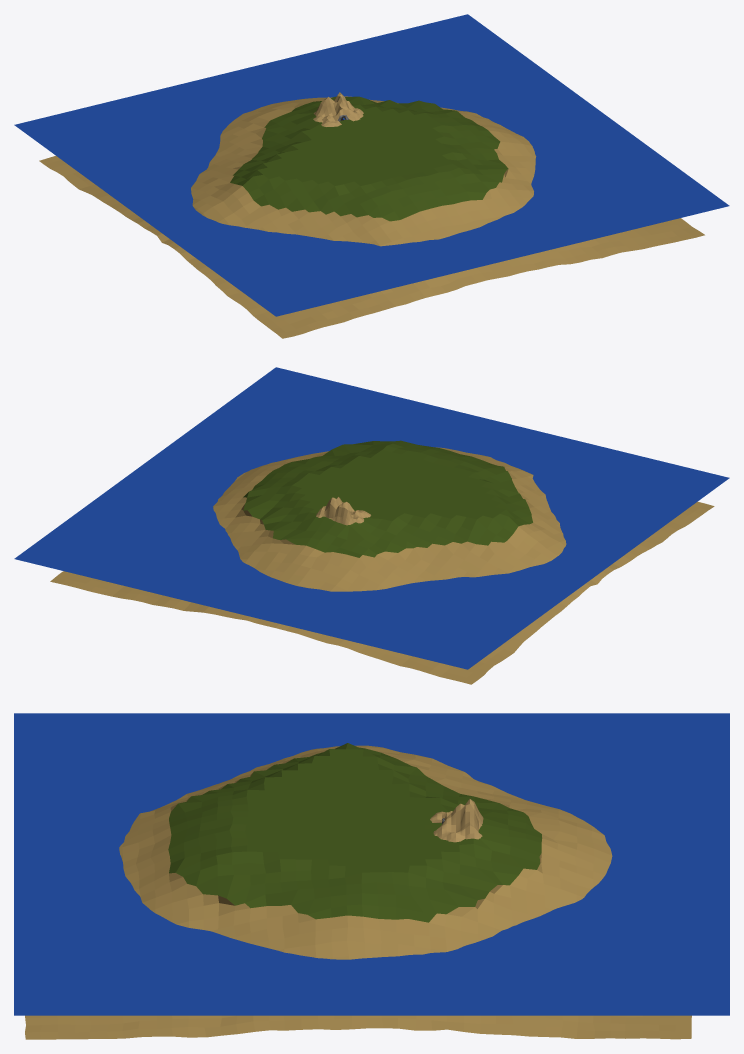
File: CaveIsland.FBX
3 renders of one model, top to bottom at view 1: azimuth 30°, elevation 25°; view 2: azimuth 150°, elevation 25°; view 3: azimuth 270°, elevation 25°, orthographic. The views are drawn at different scales.
Visible parts, largest first — view 1: sea, island, Hill_Dirt_01; view 2: sea, island, Hill_Dirt_01; view 3: sea, island, Hill_Dirt_01.
Part boxes in pixels (left/top/right/bottom): sea: left=14, top=14, right=729, bottom=316; island: left=39, top=96, right=704, bottom=338; Hill_Dirt_01: left=313, top=92, right=363, bottom=126; sea: left=14, top=367, right=729, bottom=669; island: left=50, top=440, right=714, bottom=684; Hill_Dirt_01: left=316, top=497, right=370, bottom=525; sea: left=14, top=713, right=729, bottom=1015; island: left=25, top=743, right=691, bottom=1039; Hill_Dirt_01: left=430, top=799, right=483, bottom=842.
Bounding box in the file's own units: 5913 × 925 × 5913.
